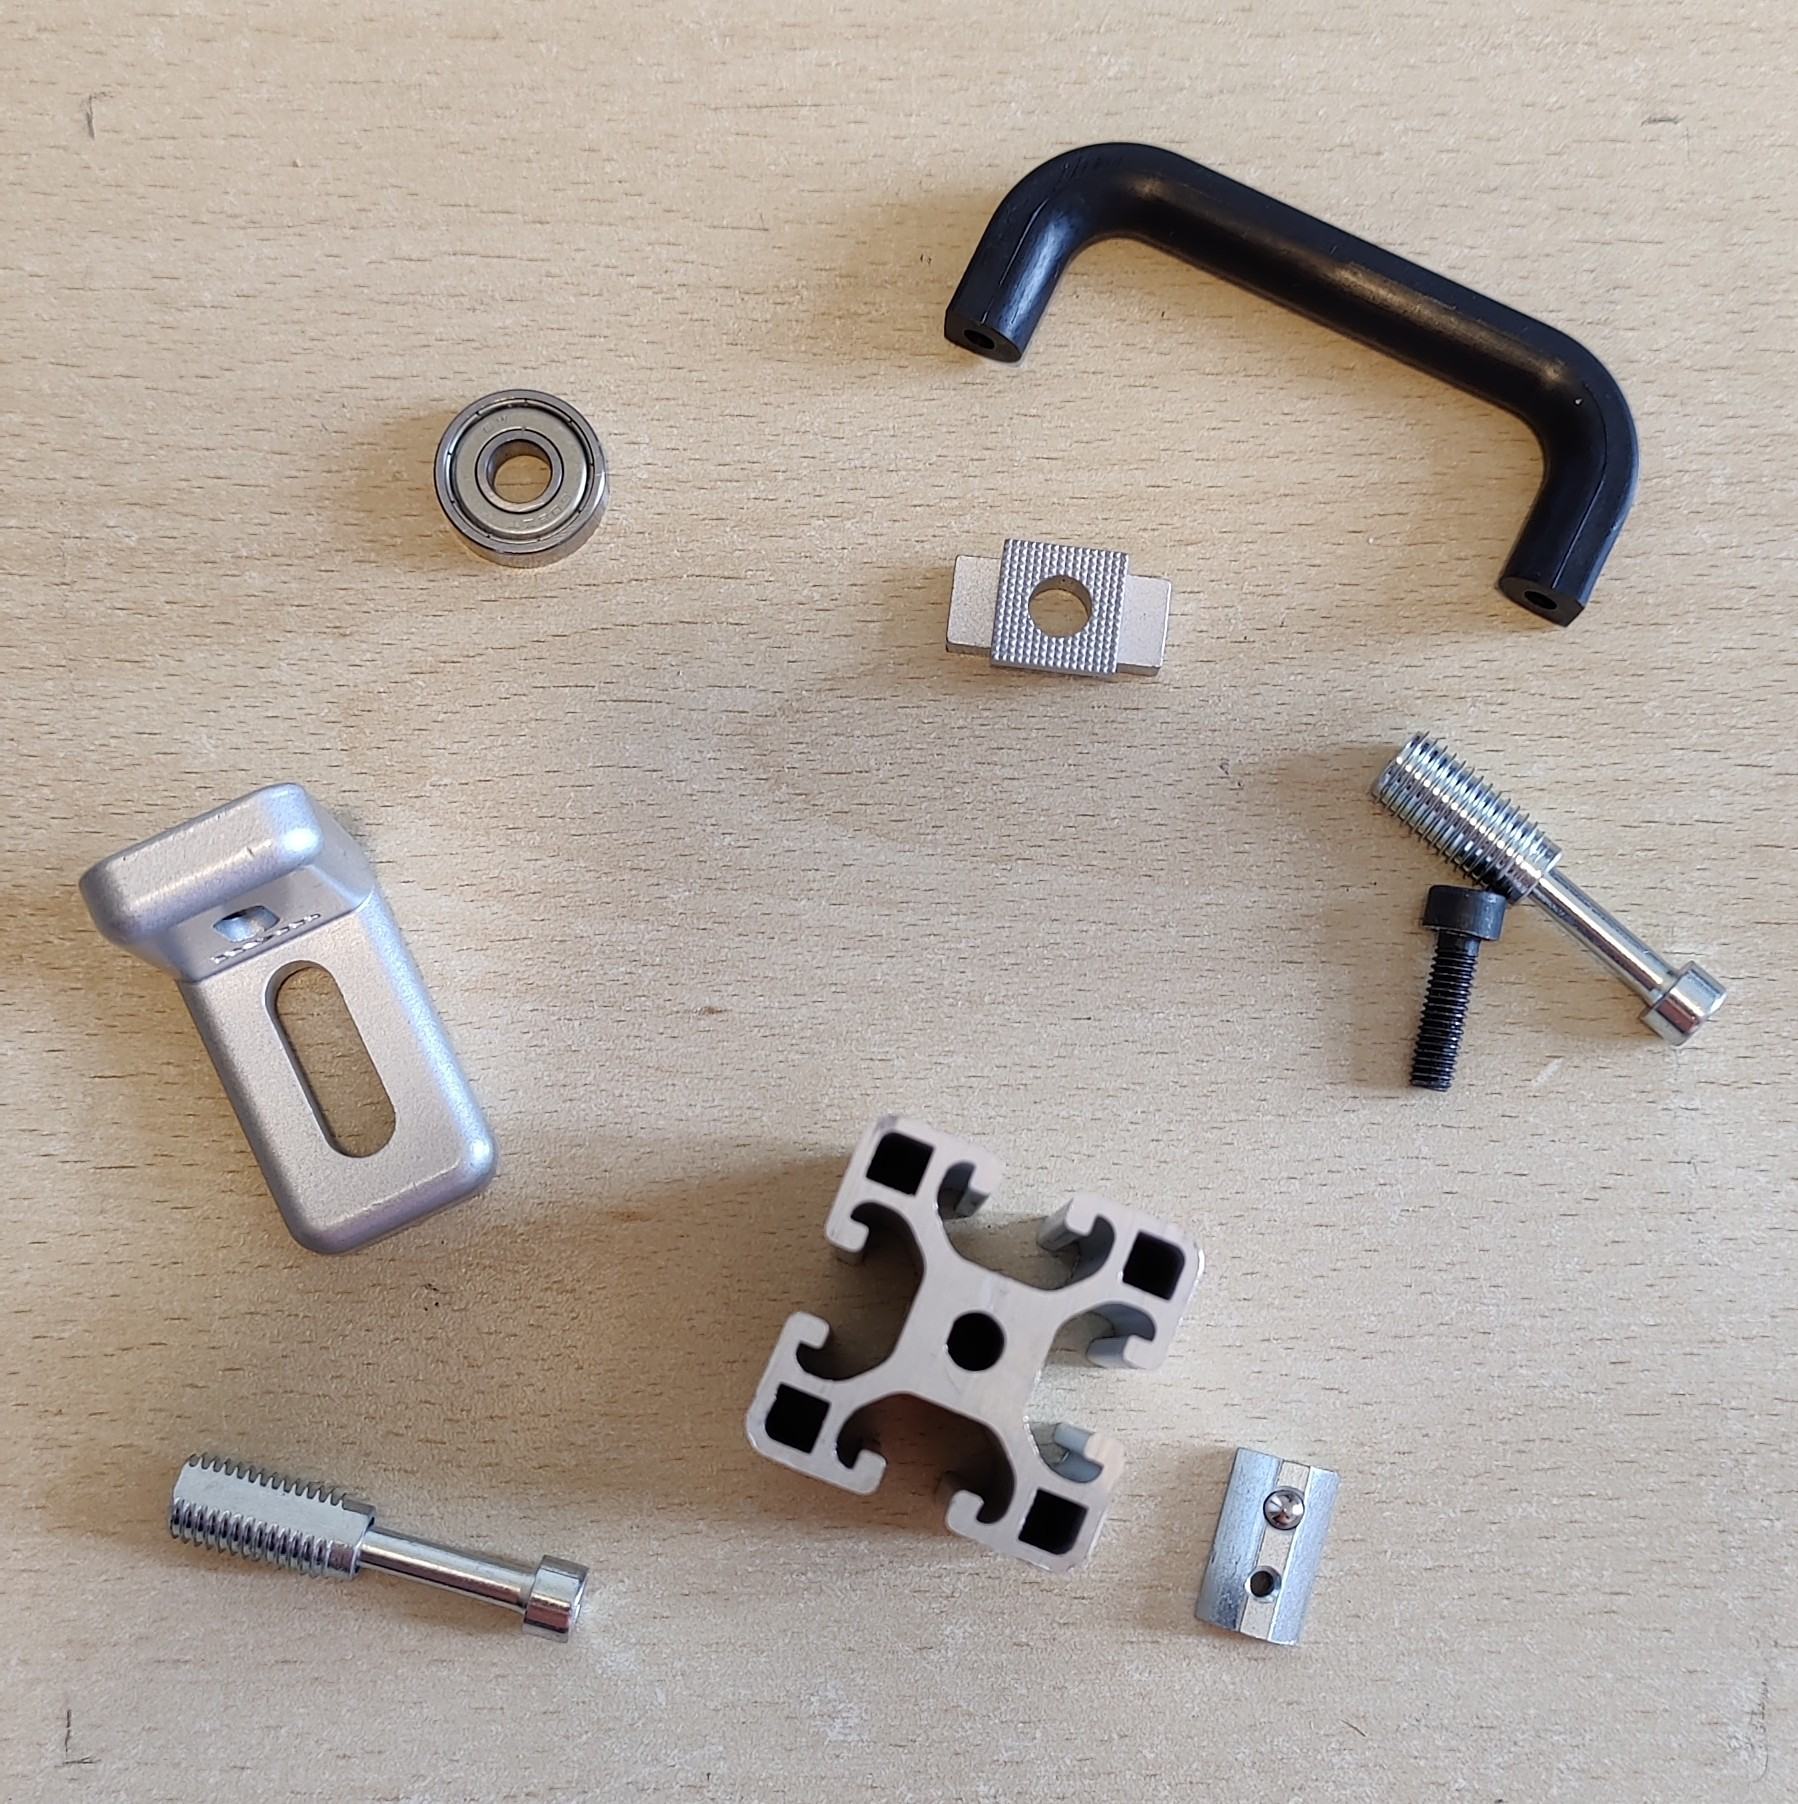Aluminium Extension: (744, 1108, 1205, 1575)
Ball Bearing: (431, 388, 613, 571)
Multiwinkel: (72, 779, 501, 1259)
Pull Handle: (942, 138, 1642, 629)
Shoulder Socket Head Cap Screw: (1362, 726, 1730, 1052), (166, 1448, 594, 1644)
Socket Head Cap Screw: (1406, 881, 1512, 1095)
T Nut Square: (942, 533, 1176, 685)
T Spring Nut: (1190, 1447, 1345, 1648)
